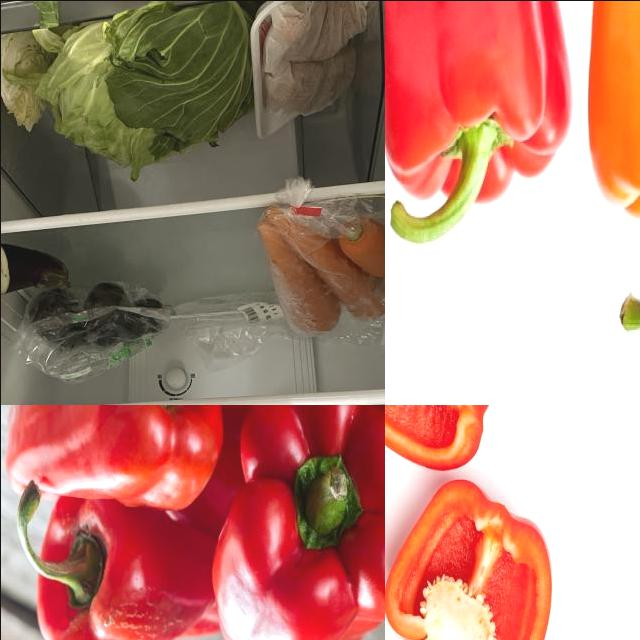bell_pepper: (385, 1, 571, 240), (211, 405, 385, 640), (12, 482, 206, 640), (9, 405, 223, 514)
cabbage: (35, 1, 255, 183), (1, 26, 47, 135)
carrot: (266, 204, 385, 325), (256, 217, 342, 337), (339, 213, 385, 279)
eggplant: (1, 241, 72, 297), (28, 289, 83, 357), (80, 280, 128, 352), (114, 296, 169, 351)
